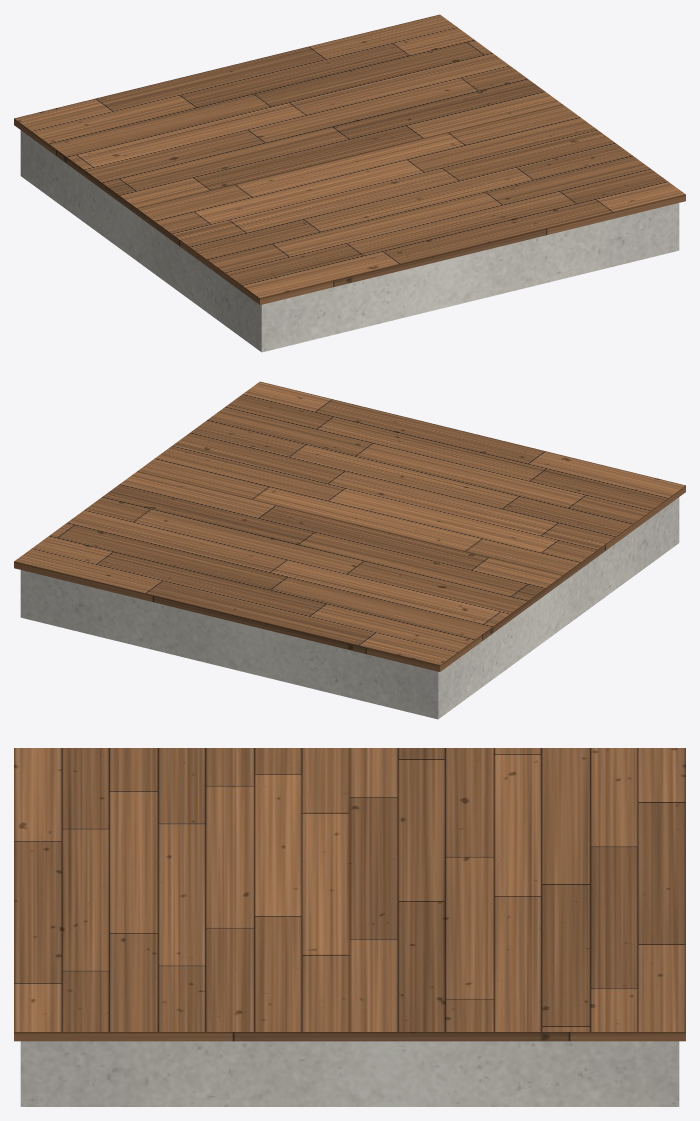
File: floor_floor_u.glb
The picture shows the model from 3 angles, top to bottom: view 1: azimuth 30°, elevation 25°; view 2: azimuth 150°, elevation 25°; view 3: azimuth 270°, elevation 25°; orthographic projection. The views are drawn at different scales.
Visible parts, largest first — view 1: floor_floor_u_floor, floor_floor_u_plaster; view 2: floor_floor_u_floor, floor_floor_u_plaster; view 3: floor_floor_u_floor, floor_floor_u_plaster.
Part boxes in pixels (x1=…): floor_floor_u_floor: x1=14, y1=14, x2=685, y2=304; floor_floor_u_plaster: x1=20, y1=130, x2=679, y2=352; floor_floor_u_floor: x1=14, y1=381, x2=685, y2=671; floor_floor_u_plaster: x1=20, y1=497, x2=679, y2=719; floor_floor_u_floor: x1=14, y1=748, x2=685, y2=1041; floor_floor_u_plaster: x1=20, y1=1041, x2=679, y2=1106.
Size of the model in its own units: 2 by 0.255 by 2.
2 materials, 2 textured.
